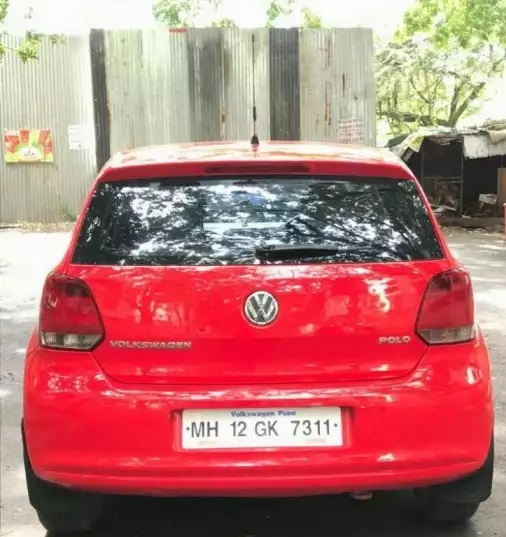licenseplate: (179, 404, 351, 449)
